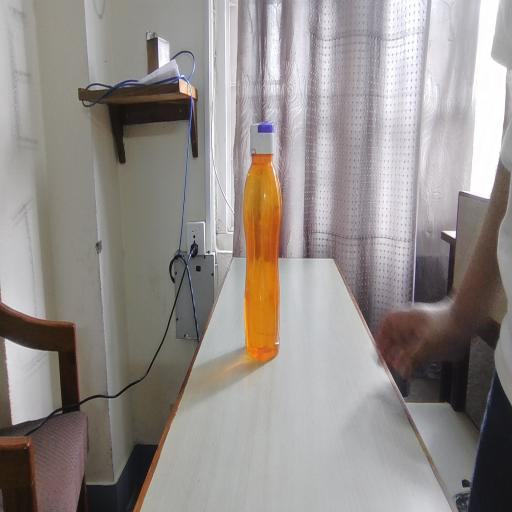Bottle: (237, 123, 301, 368)
